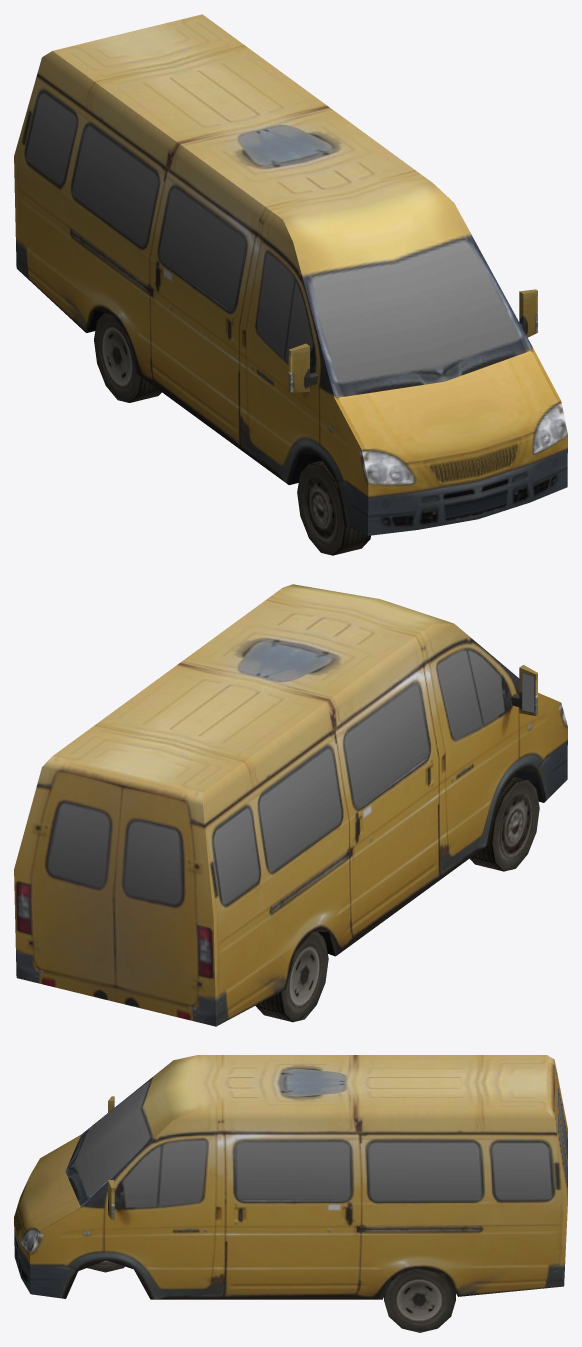
File: gazelle_bus.glb
3 renders of one model, top to bottom at view 1: azimuth 30°, elevation 25°; view 2: azimuth 150°, elevation 25°; view 3: azimuth 270°, elevation 25°, orthographic. The views are drawn at different scales.
Visible parts, largest first — view 1: _MeshInstance3D_159, _MeshInstance3D_162, _MeshInstance3D_161; view 2: _MeshInstance3D_159, _MeshInstance3D_162, _MeshInstance3D_161; view 3: _MeshInstance3D_159, _MeshInstance3D_160.
Part boxes in pixels (box(x1,y1,x2,y2)): _MeshInstance3D_159: box(14, 14, 567, 535); _MeshInstance3D_162: box(297, 460, 370, 555); _MeshInstance3D_161: box(94, 313, 161, 402); _MeshInstance3D_159: box(14, 584, 567, 1026); _MeshInstance3D_162: box(469, 776, 539, 871); _MeshInstance3D_161: box(255, 931, 328, 1022); _MeshInstance3D_159: box(14, 1055, 567, 1299); _MeshInstance3D_160: box(384, 1268, 455, 1332).
Size of the model in its own units: 2.37 by 2.6 by 6.06.
1 material, 1 textured.
